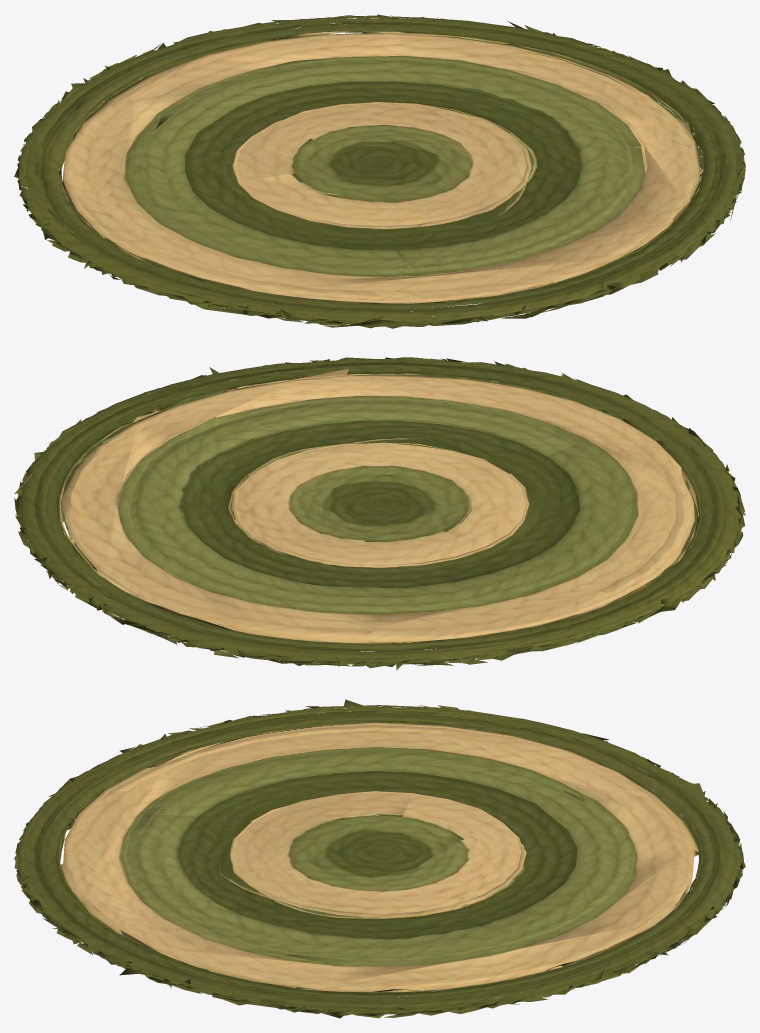
Rendered from round_rug.glb.
3 renders of one model, top to bottom at view 1: azimuth 30°, elevation 25°; view 2: azimuth 150°, elevation 25°; view 3: azimuth 270°, elevation 25°, orthographic.
Parts seen in each view (by area): view 1: round_rug; view 2: round_rug; view 3: round_rug.
Boxes of the visible parts, x1,y1,x2,y2 form: round_rug: (14,14,745,328); round_rug: (14,357,745,670); round_rug: (14,699,745,1018).
Size of the model in its own units: 2 by 0.0643 by 2.
1 material, 1 textured.
